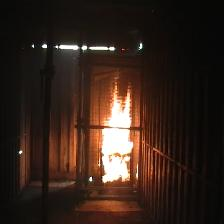fire: (102, 77, 133, 183)
